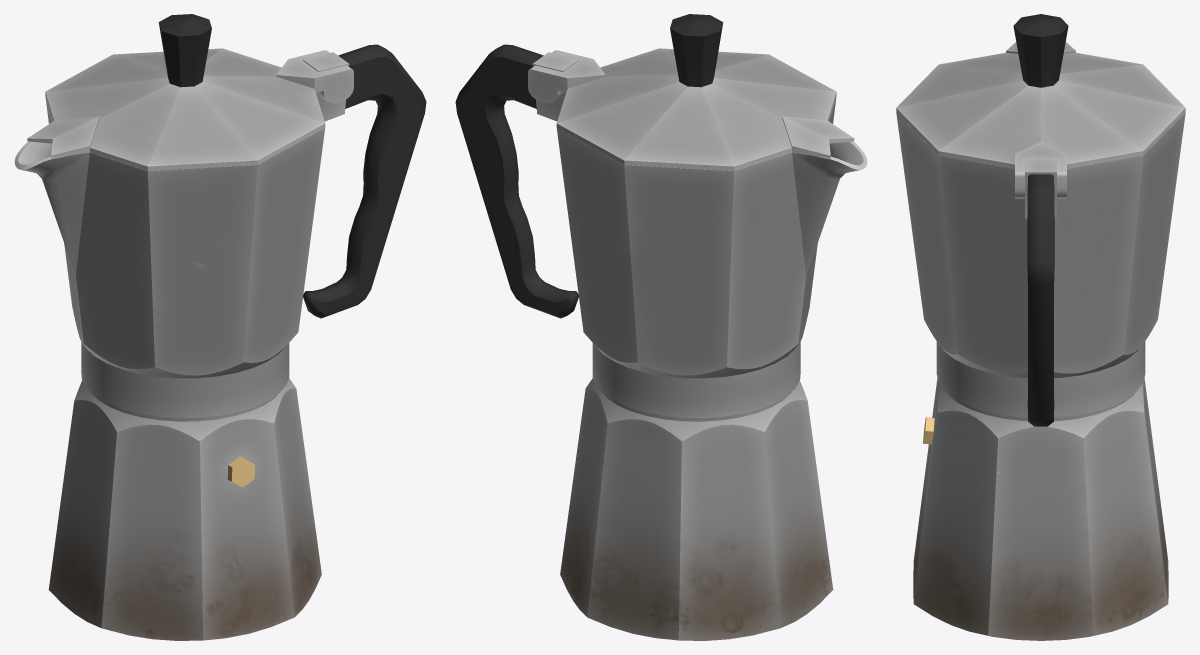
The model's file is moka_coffee_pot.glb.
3 views of the same model, side by side, from view 1: azimuth 30°, elevation 25°; view 2: azimuth 150°, elevation 25°; view 3: azimuth 270°, elevation 25° (orthographic).
Visible parts, largest first — view 1: upper_part_3, lower_part_0, lid_2, handle_4, valve_5; view 2: upper_part_3, lower_part_0, lid_2, handle_4; view 3: upper_part_3, lower_part_0, lid_2, handle_4.
Boxes of the visible parts, left/top/right/bottom form: upper_part_3: left=14, top=52, right=349, bottom=417; lower_part_0: left=48, top=378, right=321, bottom=640; lid_2: left=27, top=14, right=353, bottom=170; handle_4: left=303, top=44, right=426, bottom=318; valve_5: left=227, top=456, right=255, bottom=487; upper_part_3: left=532, top=52, right=867, bottom=417; lower_part_0: left=560, top=378, right=833, bottom=640; lid_2: left=528, top=14, right=854, bottom=170; handle_4: left=455, top=44, right=578, bottom=318; upper_part_3: left=896, top=113, right=1185, bottom=417; lower_part_0: left=913, top=378, right=1168, bottom=640; lid_2: left=896, top=14, right=1185, bottom=198; handle_4: left=1027, top=174, right=1054, bottom=426.
Size of the model in its own units: 2.05 by 2.75 by 1.27.
1 material, 1 textured.
